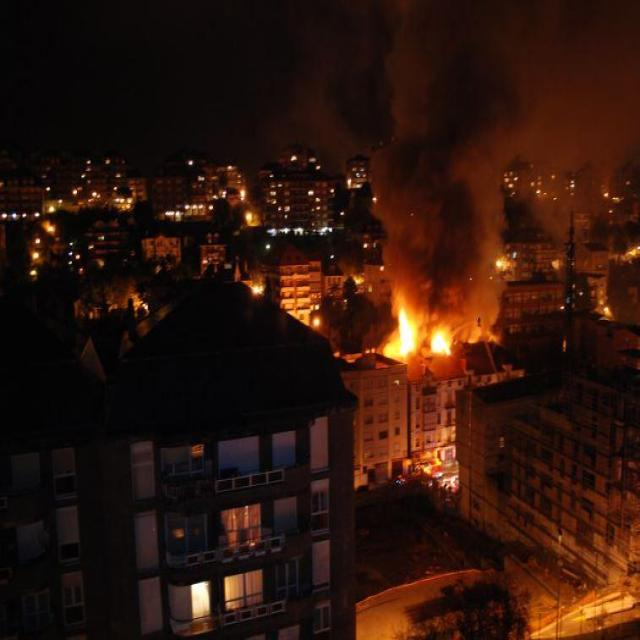Fire: (384, 306, 456, 360)
